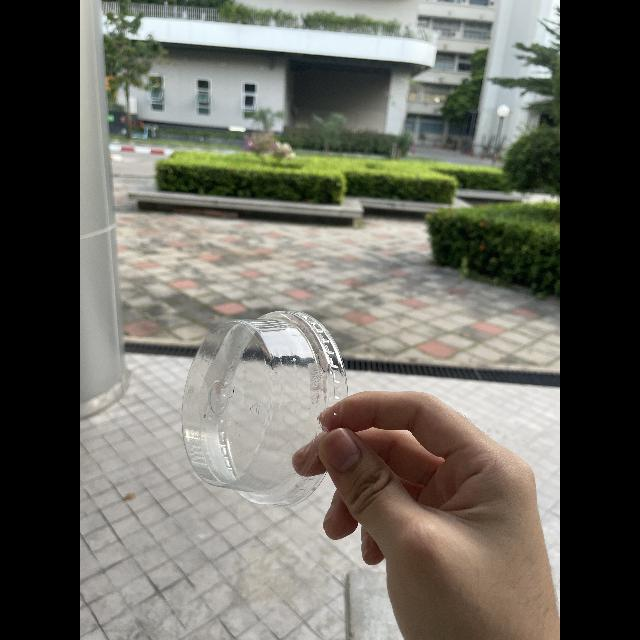plastic_cup_lid: (172, 298, 362, 514)
